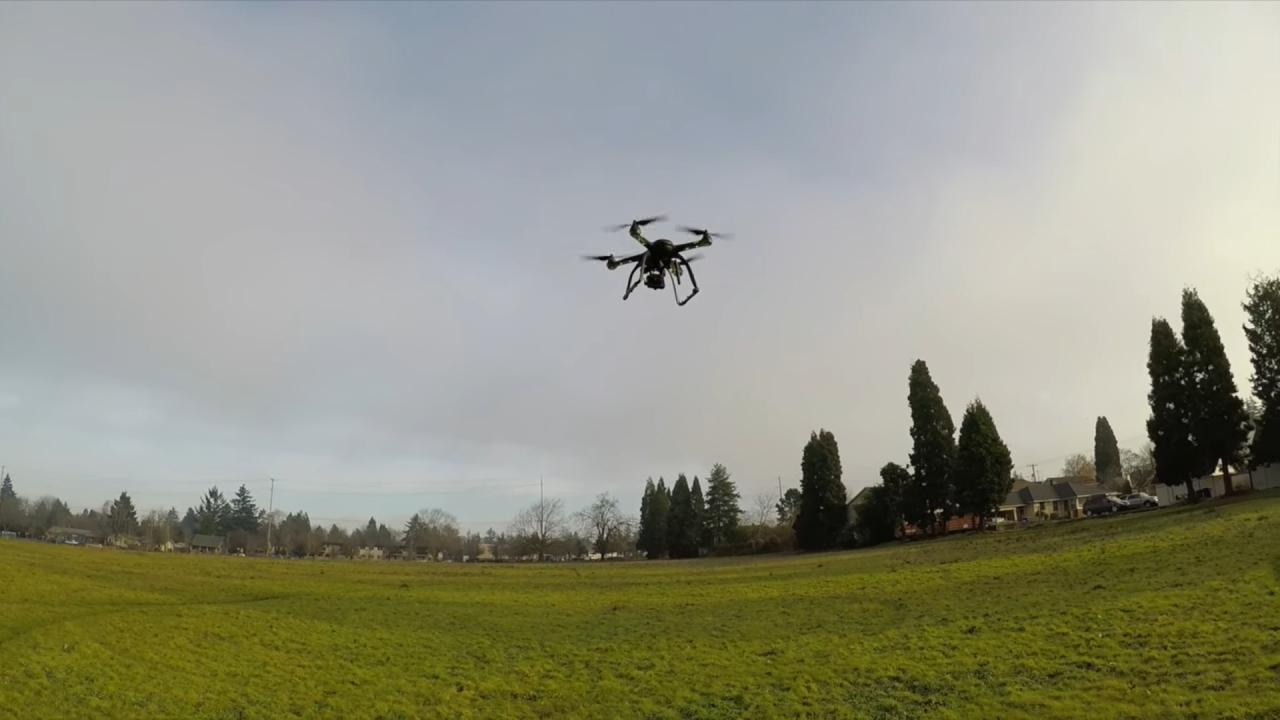Drone: (570, 206, 736, 314)
